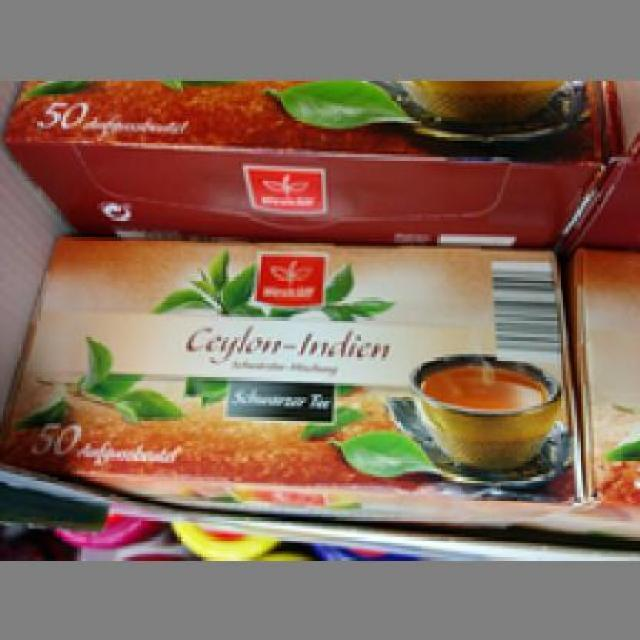Tea: (3, 228, 583, 522)
